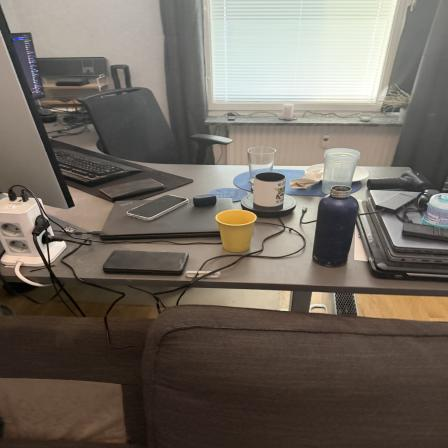blue_bottle: (314, 187, 358, 268)
phone: (102, 248, 192, 275), (127, 191, 192, 220), (95, 176, 169, 199)
yellow_cup: (212, 205, 258, 254)
